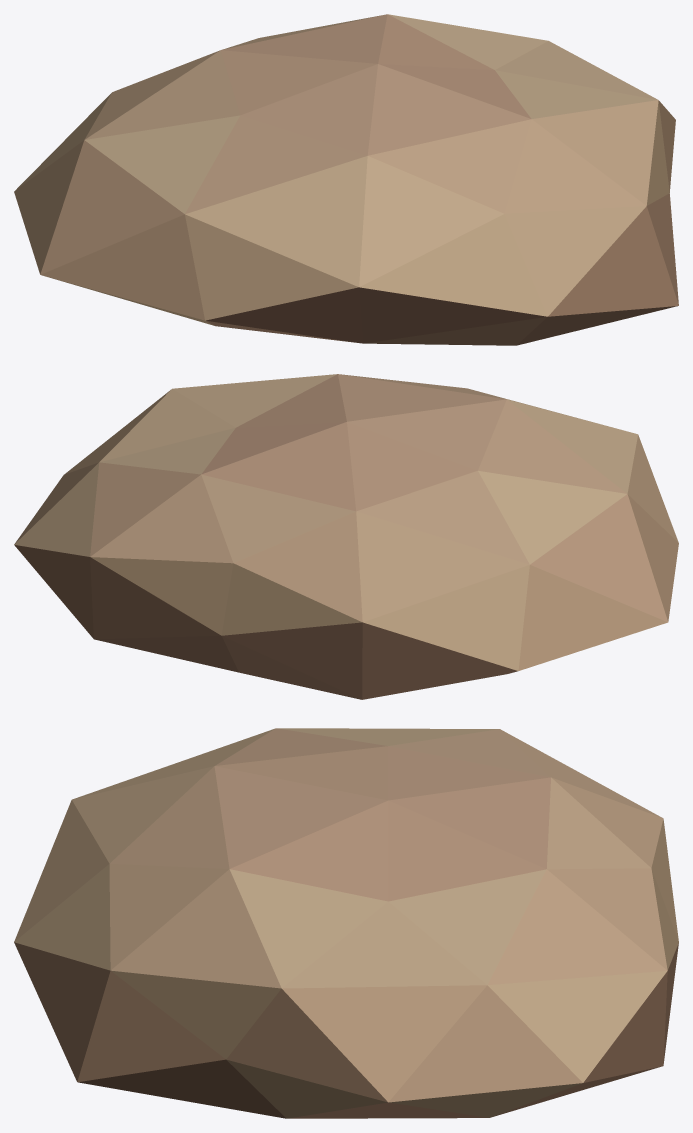
The model's file is pebble_2.glb.
3 renders of one model, top to bottom at view 1: azimuth 30°, elevation 25°; view 2: azimuth 150°, elevation 25°; view 3: azimuth 270°, elevation 25°, orthographic. The views are drawn at different scales.
Parts seen in each view (by area): view 1: rock; view 2: rock; view 3: rock.
Boxes of the visible parts, <box> form: rock: <box>14,14,678,345</box>; rock: <box>14,374,678,699</box>; rock: <box>14,728,678,1118</box>.
Bounding box in the file's own units: 0.6 × 0.163 × 0.4929.
